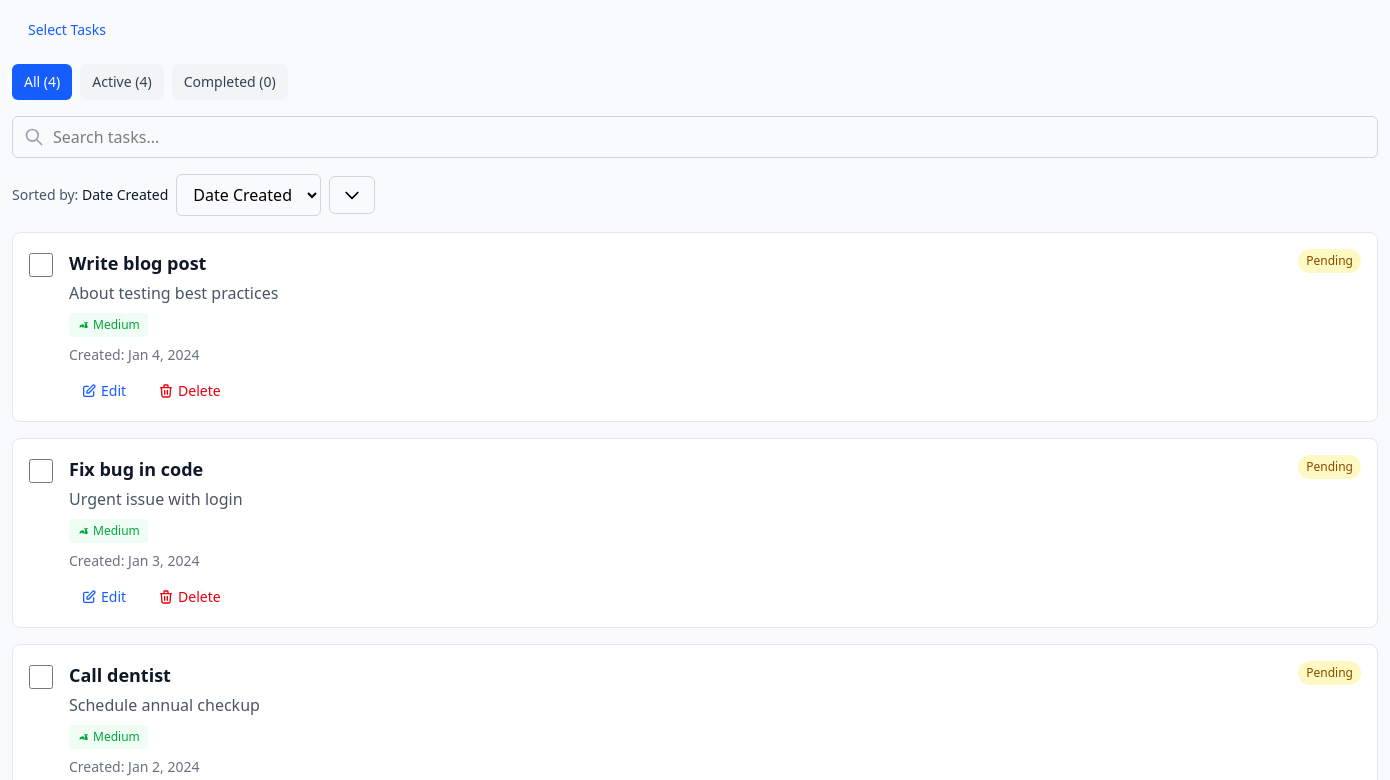
Scenario: User Story 2.4: Search Tasks UI › No Results Message › should show "no results" message when search returns no matches
Type "nonexistent-task" into the search field at (695, 137), box [12,116,1378,158]
Wait 300 ms
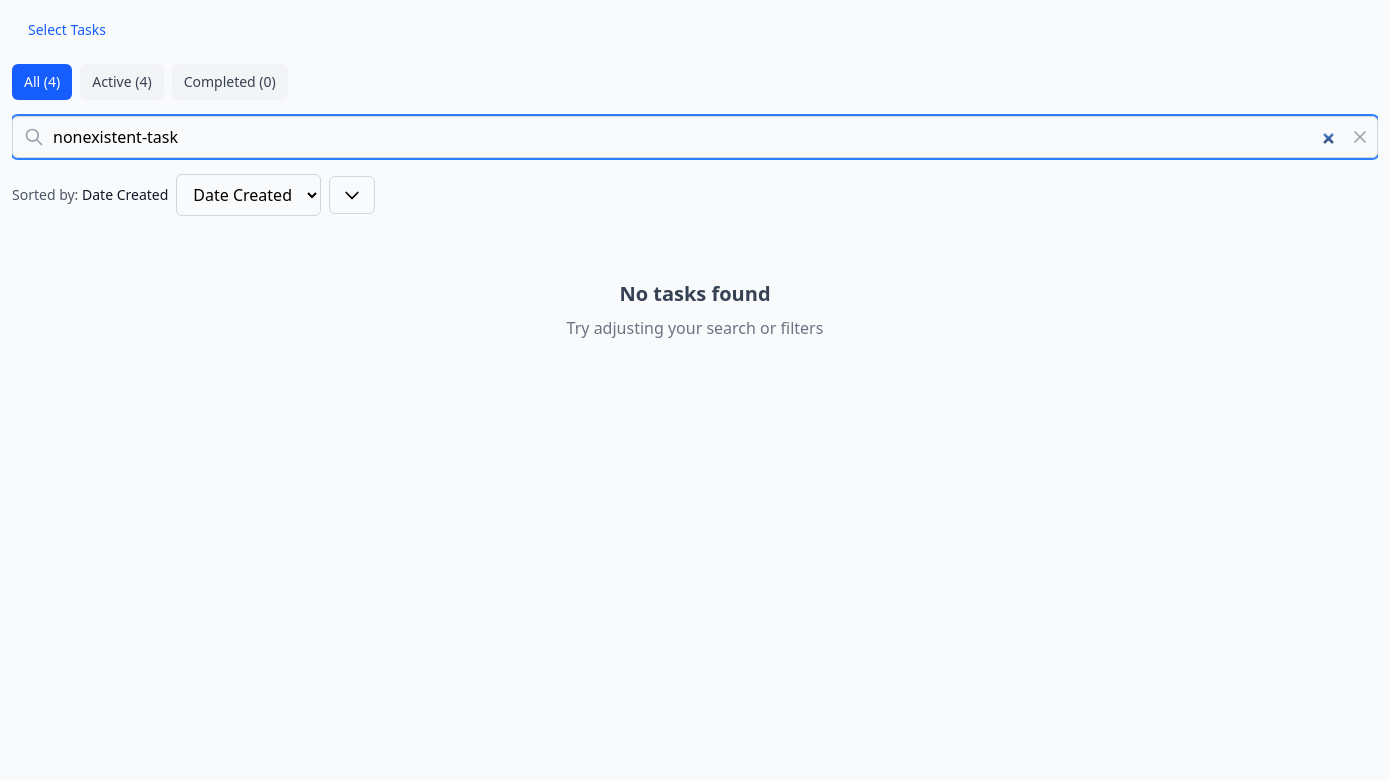
expect the heading "No tasks found" is shown: met, box [619,280,770,307]
